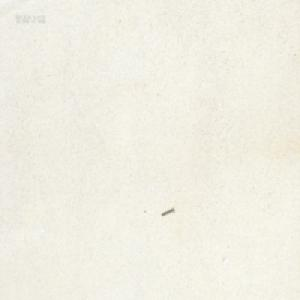Bolt: (160, 207, 173, 217)
